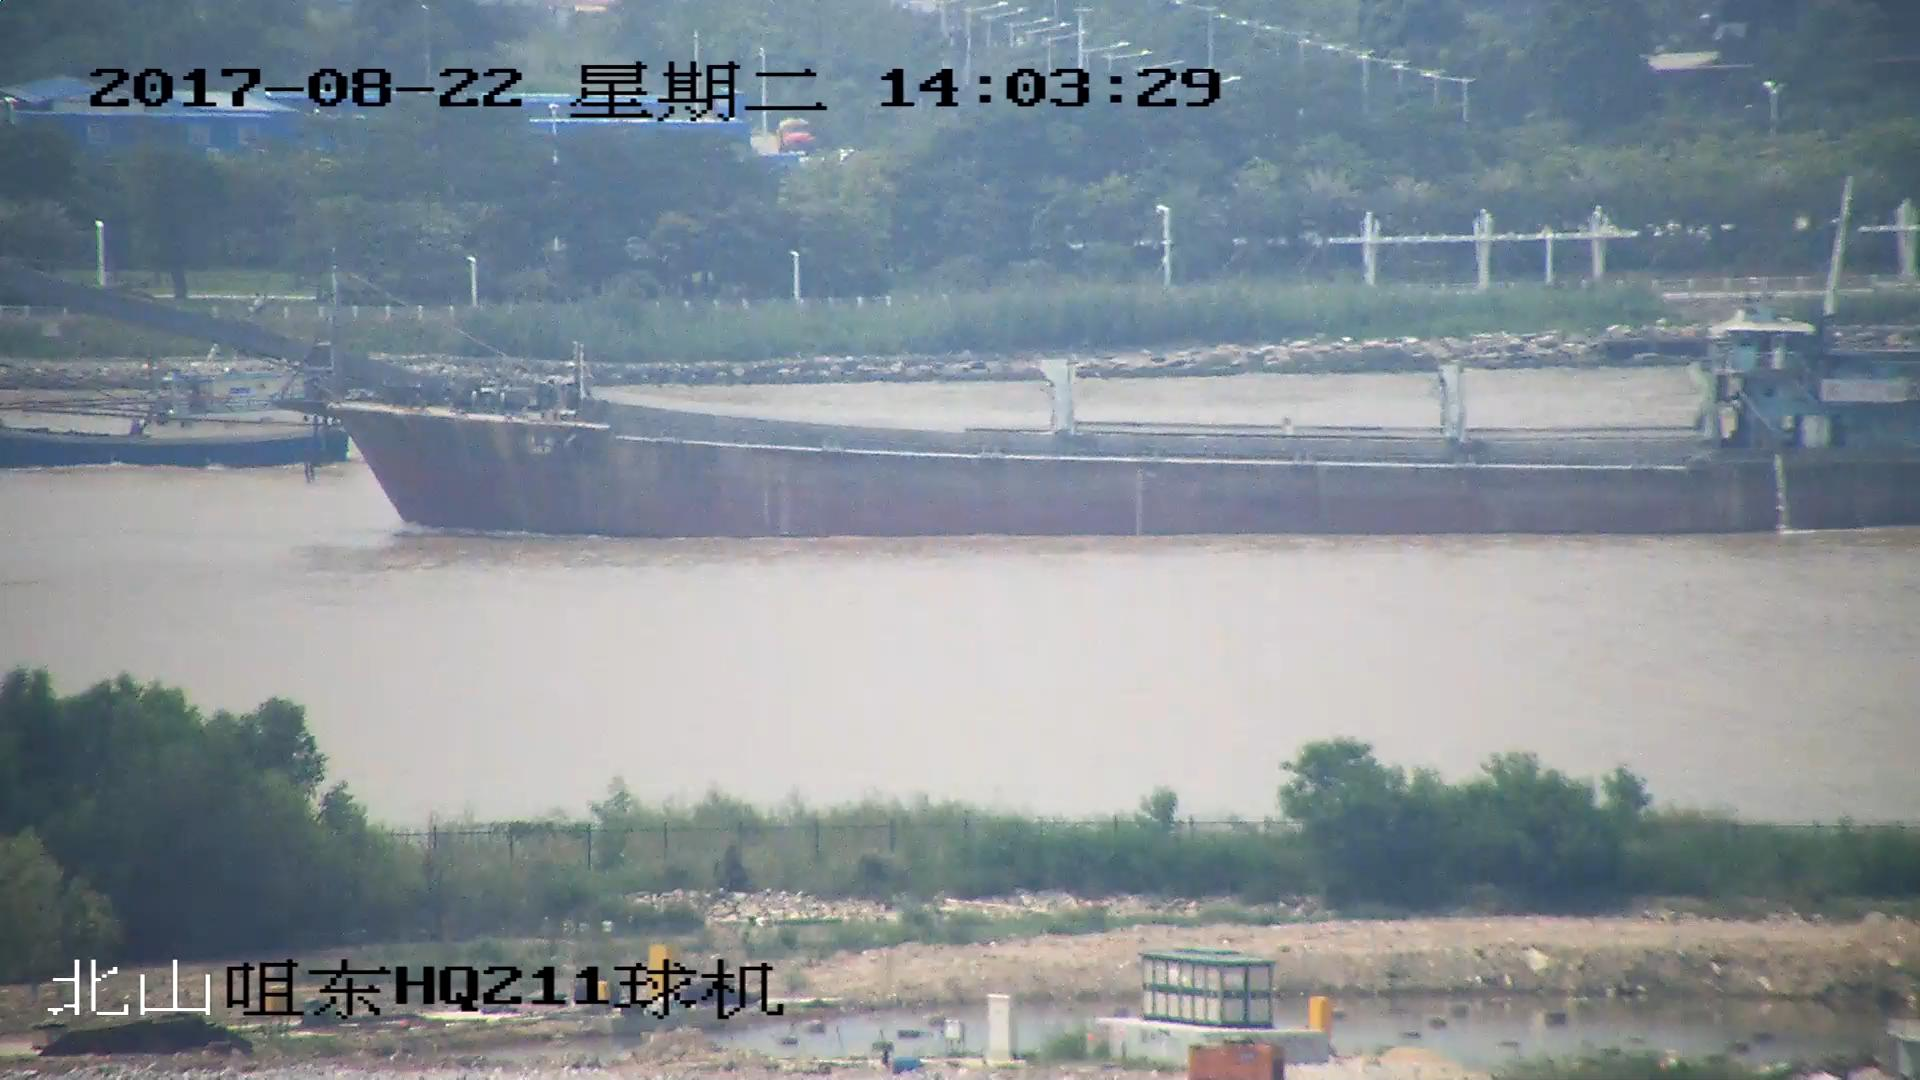bulk cargo carrier: (1, 254, 1920, 537)
fishing boat: (1, 365, 353, 467)
